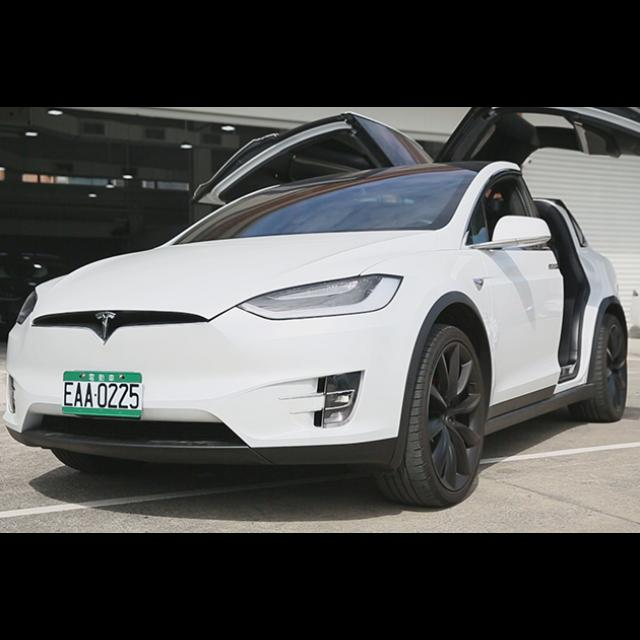plate: (62, 371, 142, 418)
